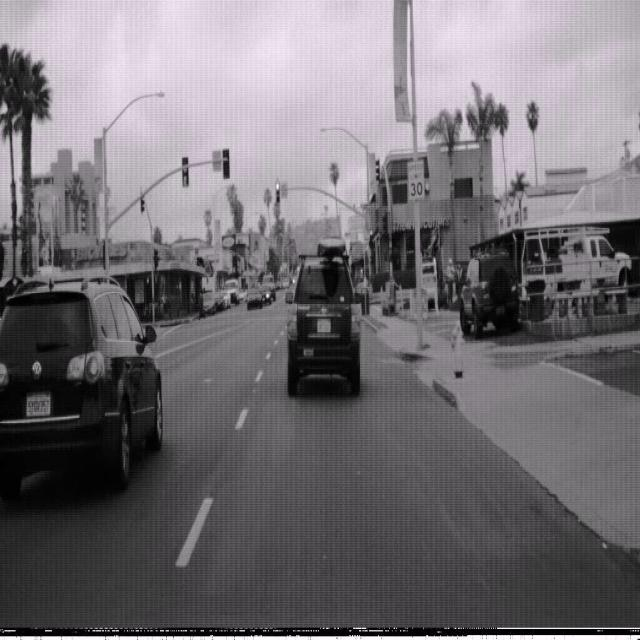speedLimit30: (406, 157, 425, 202)
